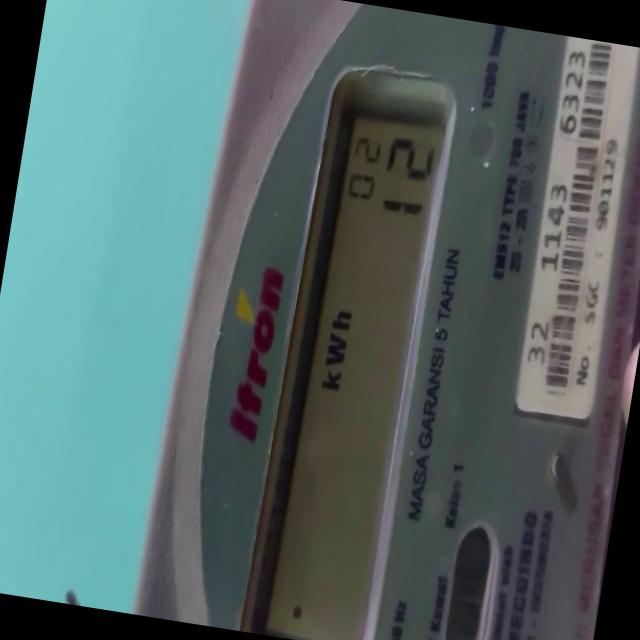LCD: (237, 39, 472, 640)
